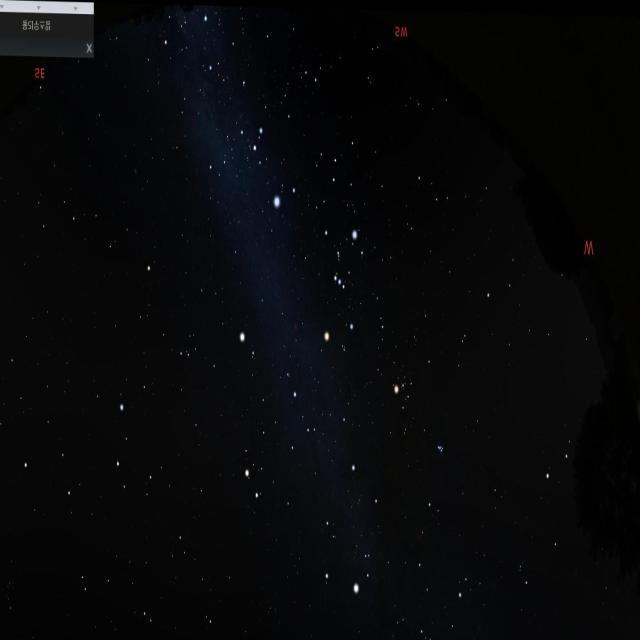canis_major: (250, 118, 300, 220)
canis_minor: (237, 324, 257, 360)
gemini: (238, 377, 324, 519)
leo: (14, 391, 159, 544)
orion: (313, 209, 363, 354)
pleiades: (432, 438, 446, 461)
taurus: (382, 358, 455, 472)
